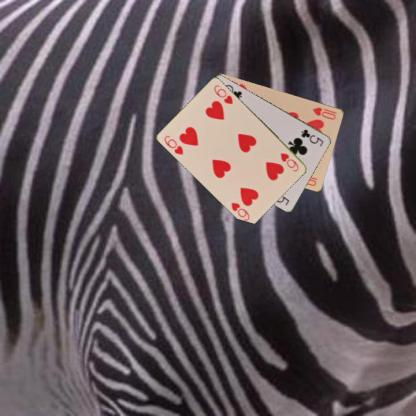10h: (310, 104, 338, 120)
5c: (298, 126, 324, 148)
6h: (162, 133, 185, 156), (278, 150, 300, 173)
